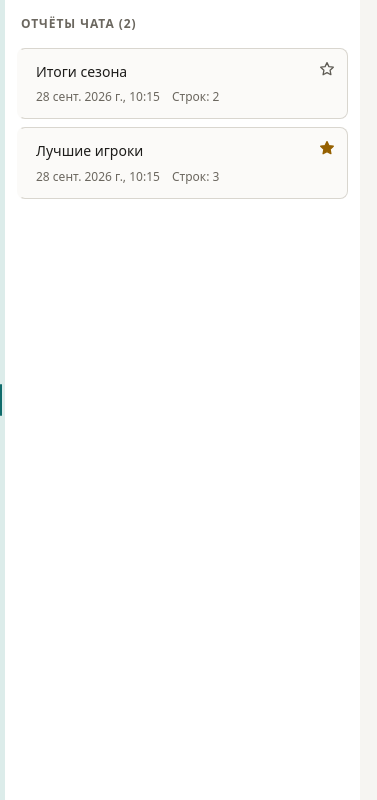
Test: ReportsPanel save › reverts the star and shows the error when saving fails
expect the heading "Отчёты чата (2)" is shown: met, box [21,16,137,32]
Step 1. Click the button named "Сохранить" → (327, 69), box [311,53,343,85]
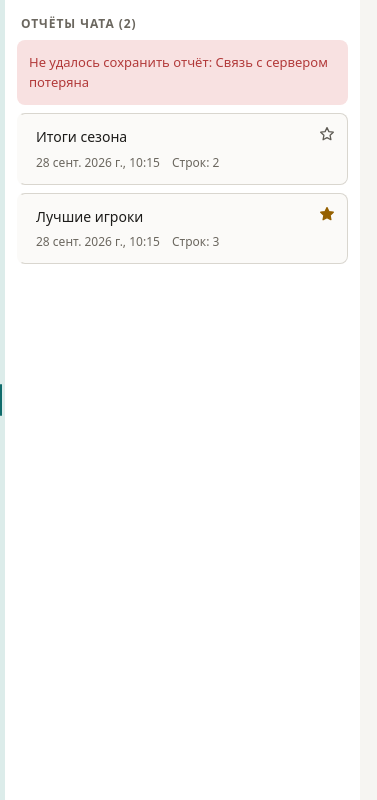
expect the button named "Сохранить" is enabled: met, box [311,118,343,150]
expect the message reads "Не удалось сохранить отчёт: Связь с сервером потеряна": met, box [29,53,328,91]
